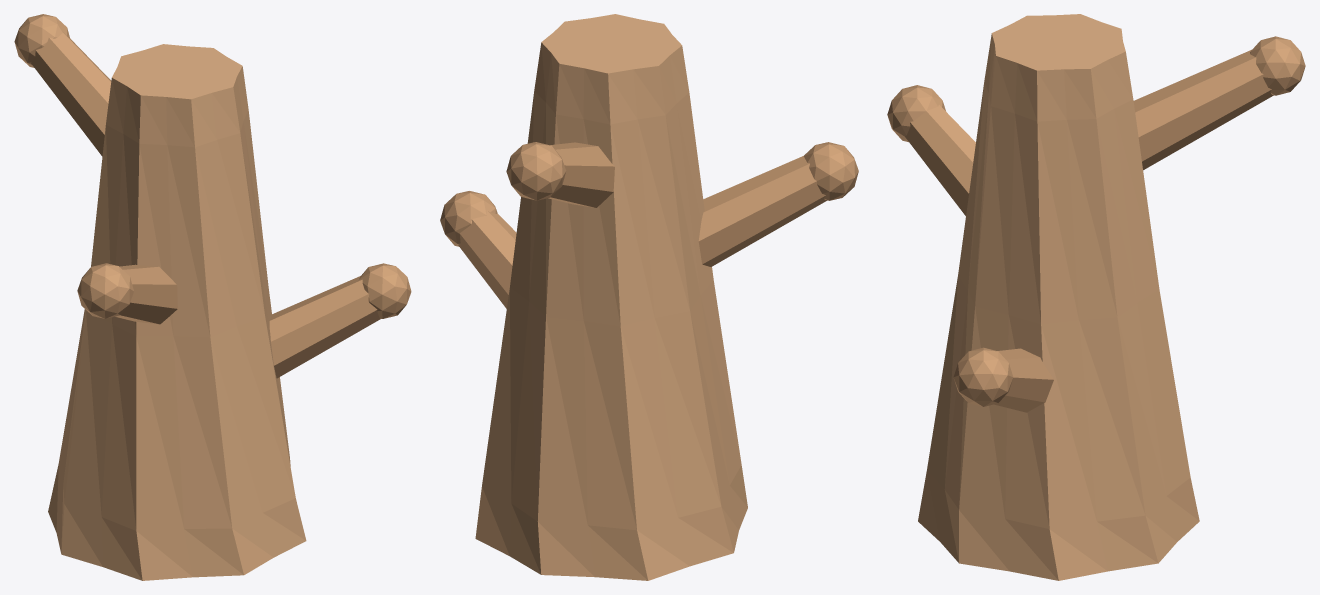
File: PineTrunk.glb
The picture shows the model from 3 angles, left to right: view 1: azimuth 30°, elevation 25°; view 2: azimuth 150°, elevation 25°; view 3: azimuth 270°, elevation 25°; orthographic projection. The views are drawn at different scales.
Parts seen in each view (by area): view 1: PineTrunk_PineBark, PineTrunk_PineStubs; view 2: PineTrunk_PineBark, PineTrunk_PineStubs; view 3: PineTrunk_PineBark, PineTrunk_PineStubs.
Boxes of the visible parts, box(x1,y1,x2,y2) form: PineTrunk_PineBark: box(48, 44, 306, 580); PineTrunk_PineStubs: box(14, 14, 411, 378); PineTrunk_PineBark: box(475, 14, 747, 580); PineTrunk_PineStubs: box(440, 142, 858, 308); PineTrunk_PineBark: box(918, 14, 1199, 580); PineTrunk_PineStubs: box(887, 36, 1305, 412).
Size of the model in its own units: 2.47 by 3 by 2.37.
